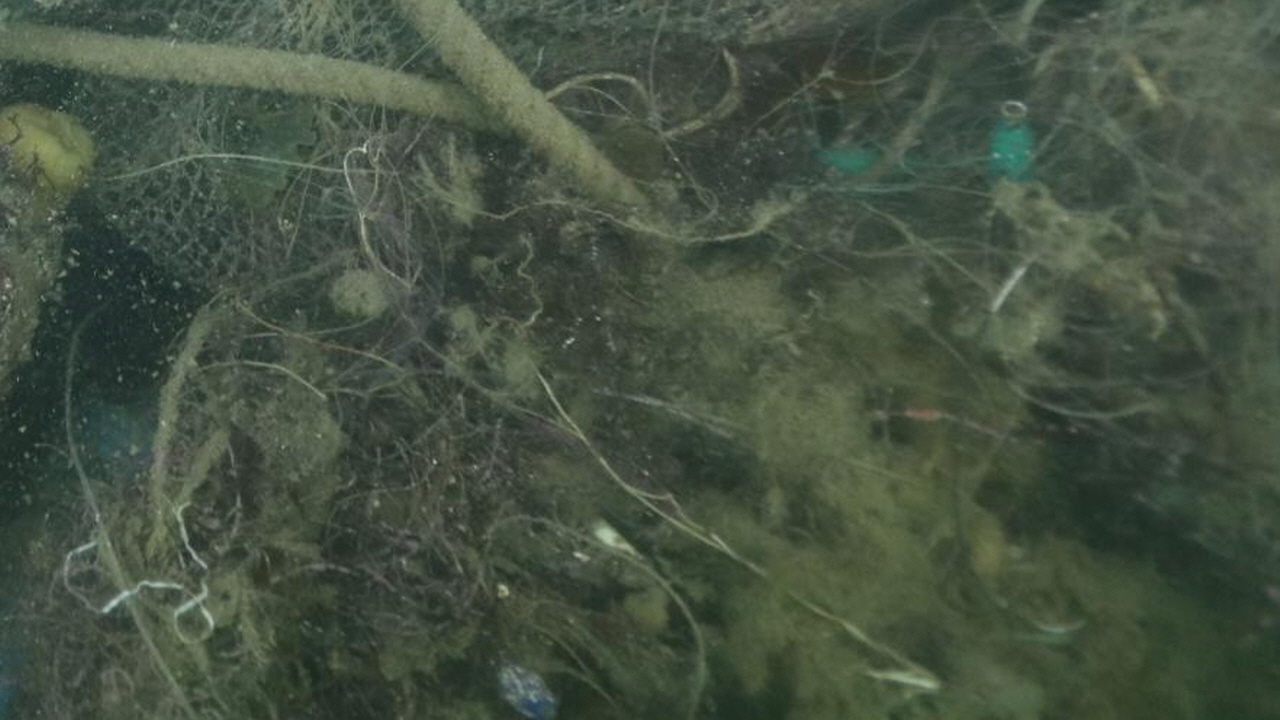bundle of ropes: (0, 0, 653, 225)
fish net: (89, 0, 846, 293)
